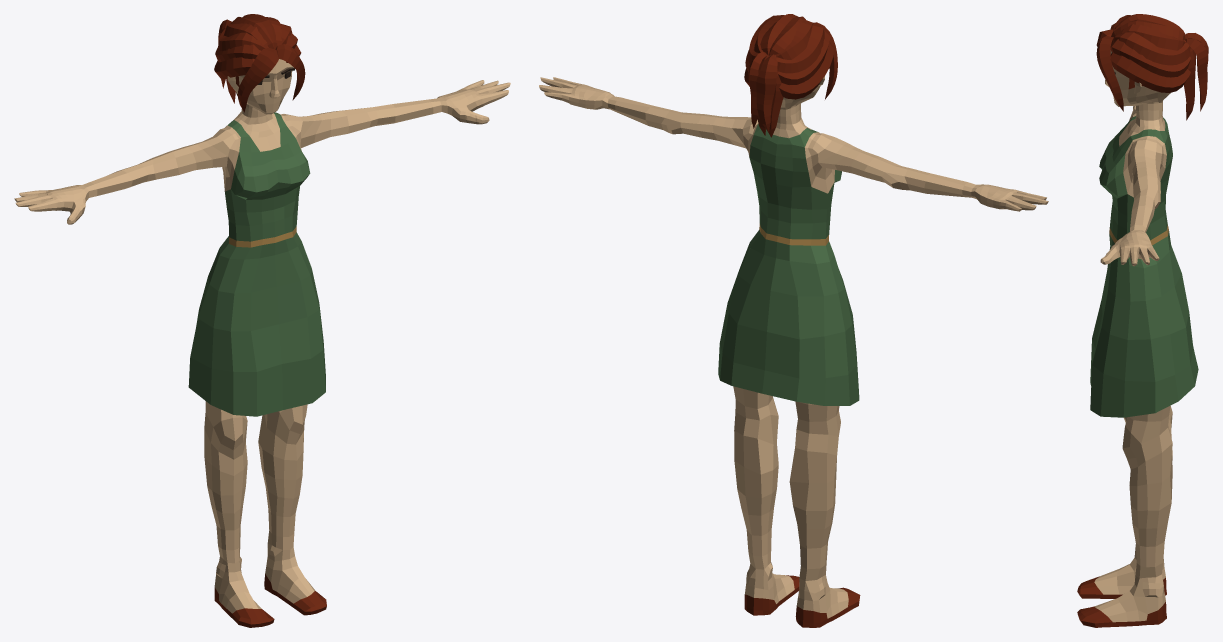
File: woman-formal.glb
The picture shows the model from 3 angles, left to right: view 1: azimuth 30°, elevation 25°; view 2: azimuth 150°, elevation 25°; view 3: azimuth 270°, elevation 25°; orthographic projection. The views are drawn at different scales.
Visible parts, largest first — view 1: Formal_Legs, Formal_Body, Formad_Head, Formal_Feet; view 2: Formal_Legs, Formal_Body, Formad_Head, Formal_Feet; view 3: Formal_Legs, Formal_Body, Formad_Head, Formal_Feet.
Boxes of the visible parts, x1,y1,x2,y2 form: Formal_Legs: [188, 241, 325, 550]; Formal_Body: [14, 80, 510, 259]; Formad_Head: [214, 14, 305, 117]; Formal_Feet: [214, 530, 326, 627]; Formal_Legs: [718, 242, 859, 568]; Formal_Body: [539, 77, 1048, 263]; Formad_Head: [744, 14, 837, 137]; Formal_Feet: [744, 550, 860, 627]; Formal_Legs: [1090, 245, 1198, 567]; Formal_Body: [1099, 106, 1172, 268]; Formad_Head: [1096, 14, 1208, 120]; Formal_Feet: [1077, 544, 1166, 627].
Size of the model in its own units: 1.65 by 1.84 by 0.3725.
